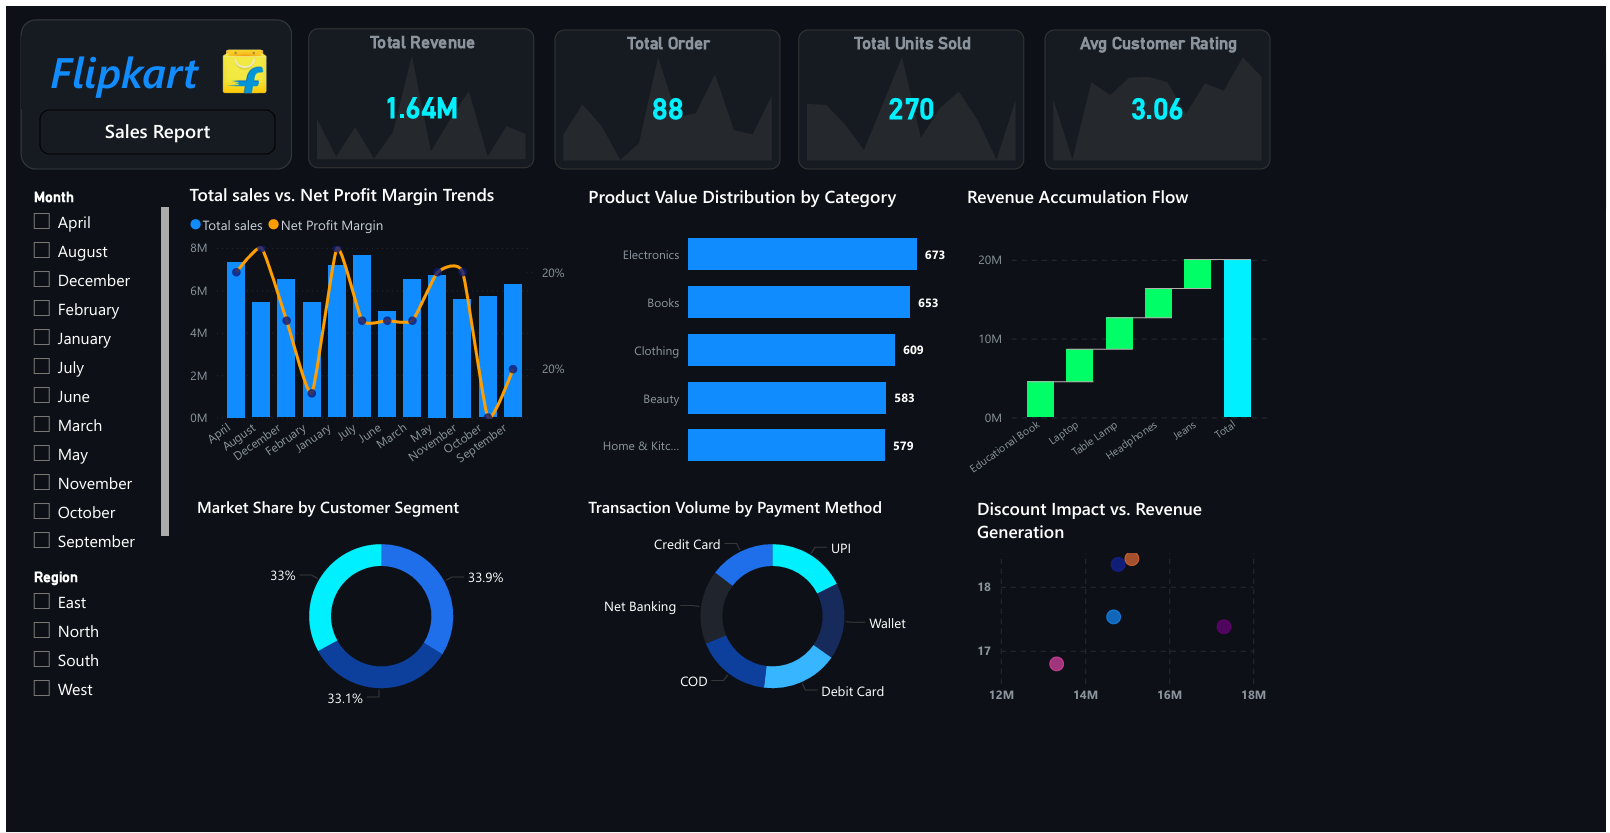

The dashboard page shown, as its layout file describes it:
{"tool":"powerbi","page":{"name":"Page 1","canvas":[1280,720],"ordinal":0},"visuals":[{"type":"kpi","title":"Total Revenue ","fields":{"Indicator":["Divide(Table1.Total Revenue, ScopedEval(Table1.Total Revenue, []))"],"TrendLine":["Table1.Month"]},"box":[301.2,21.2,226.2,140],"z":0},{"type":"slicer","fields":{"Values":["Table1.Month"]},"box":[13.9,178.1,154.4,368.7],"z":1000},{"type":"slicer","fields":{"Values":["Table1.Region"]},"box":[13.9,557.9,154.4,148.9],"z":2000},{"type":"lineClusteredColumnComboChart","title":"Total sales vs. Net Profit Margin Trends","fields":{"Y":["Table1.Total sales"],"Category":["Table1.Month"],"Y2":["Table1.Net Profit Margin"]},"box":[178.1,175.3,385.4,303.3],"z":3000},{"type":"donutChart","title":"Market Share by  Customer Segment","fields":{"Y":["CountNonNull(Table1.Order ID)"],"Category":["Table1.Customer Segment"]},"box":[185,488.3,378.4,218.4],"z":4000},{"type":"donutChart","title":"Transaction Volume by Payment Method","fields":{"Category":["Table1.Payment Method"],"Y":["CountNonNull(Table1.Order ID)"]},"box":[576,488.3,378.4,218.4],"z":5000},{"type":"clusteredBarChart","title":"Product Value Distribution by Category","fields":{"Category":["Table1.Category"],"Y":["Sum(Table1.Quantity Sold)"]},"box":[576,178.1,368.7,303.3],"z":6000},{"type":"waterfallChart","title":"Revenue Accumulation Flow","fields":{"Category":["Table1.Product Name"],"Y":["Table1.Total sales"]},"box":[954.4,178.1,310.3,303.3],"z":7000},{"type":"scatterChart","title":"Discount Impact vs. Revenue Generation","fields":{"X":["Sum(Table1.Total Sales (INR))"],"Y":["Avg(Table1.Discount %)"],"Category":["Table1.Category"]},"box":[965.6,488.3,299.1,217],"z":8000},{"type":"kpi","title":"Total Order","fields":{"TrendLine":["Table1.Month"],"Indicator":["Count(Table1.Order ID)"]},"box":[547.5,22.5,226.2,140],"z":9000},{"type":"kpi","title":"Total Units Sold","fields":{"TrendLine":["Table1.Month"],"Indicator":["Sum(Table1.Quantity Sold)"]},"box":[791.2,22.5,226.2,140],"z":10000},{"type":"kpi","title":"Avg Customer Rating","fields":{"TrendLine":["Table1.Month"],"Indicator":["Avg(Table1.Customer Rating)"]},"box":[1037.5,22.5,226.2,140],"z":11000},{"type":"group","id":"g1","title":"Group 1","box":[14.4,10,279.7,152.1],"z":12000},{"type":"shape","box":[14.4,12.1,271.2,150],"z":12000,"group":"g1"},{"type":"textbox","box":[32.5,102.5,236.2,45],"z":13000},{"type":"textbox","box":[15.4,30.5,252.5,72.5],"z":15501,"group":"g2"},{"type":"group","id":"g2","title":"Group 2","box":[15.4,10,278.8,108.8],"z":16504,"group":"g1"},{"type":"image","box":[181.6,10,112.5,108.8],"z":17001,"group":"g2"}]}

Visuals, with their boxes on the page's 1280x720 design canvas (x1, y1, x2, y2). These are canvas units, not pixel positions in the 1610x833 screenshot, which may show the page scaled, cropped or inside an application window:
"Total Revenue " kpi: box(301, 21, 527, 161)
slicer - Table1.Month: box(14, 178, 168, 547)
slicer - Table1.Region: box(14, 558, 168, 707)
"Total sales vs. Net Profit Margin Trends" lineClusteredColumnComboChart: box(178, 175, 564, 479)
"Market Share by  Customer Segment" donutChart: box(185, 488, 563, 707)
"Transaction Volume by Payment Method" donutChart: box(576, 488, 954, 707)
"Product Value Distribution by Category" clusteredBarChart: box(576, 178, 945, 481)
"Revenue Accumulation Flow" waterfallChart: box(954, 178, 1265, 481)
"Discount Impact vs. Revenue Generation" scatterChart: box(966, 488, 1265, 705)
"Total Order" kpi: box(548, 22, 774, 162)
"Total Units Sold" kpi: box(791, 22, 1017, 162)
"Avg Customer Rating" kpi: box(1038, 22, 1264, 162)
"Group 1" group: box(14, 10, 294, 162)
shape: box(14, 12, 286, 162)
textbox: box(32, 102, 269, 148)
textbox: box(15, 30, 268, 103)
"Group 2" group: box(15, 10, 294, 119)
image: box(182, 10, 294, 119)
